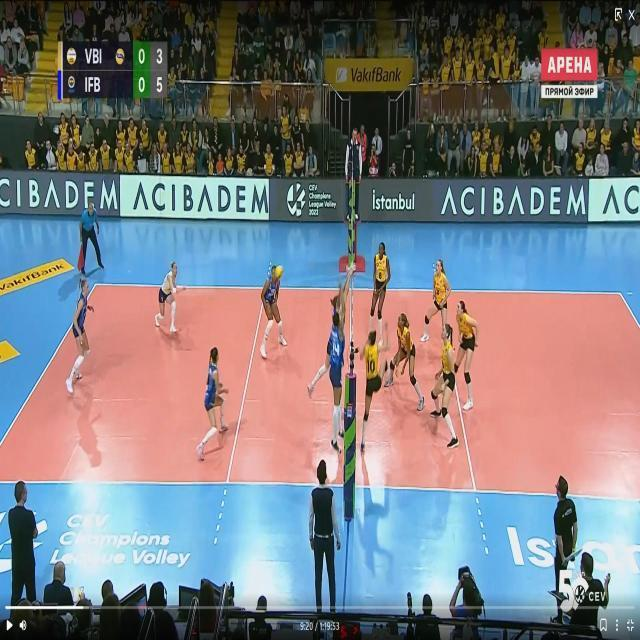volleyball: (274, 264, 284, 279)
